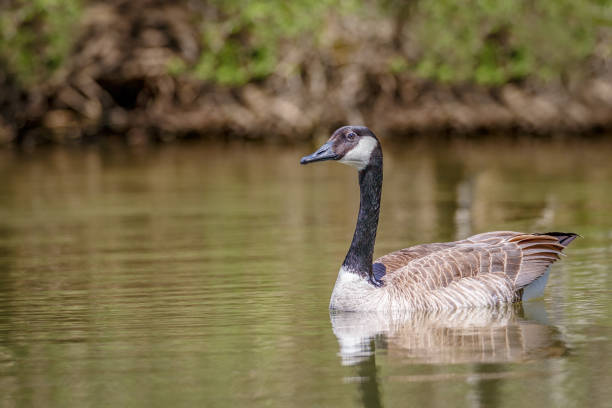goose: (299, 119, 582, 349)
